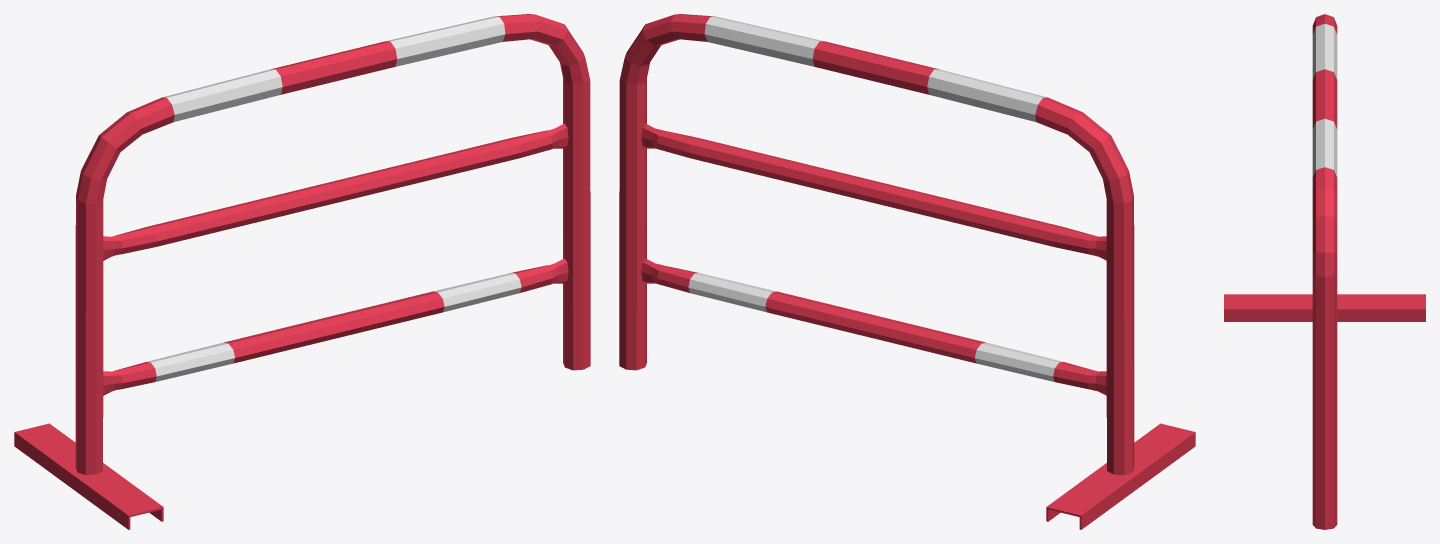
Rendered from barrierre.fbx.
3 views of the same model, side by side, from view 1: azimuth 30°, elevation 25°; view 2: azimuth 150°, elevation 25°; view 3: azimuth 270°, elevation 25° (orthographic). The views are drawn at different scales.
Parts seen in each view (by area): view 1: Barrière; view 2: Barrière; view 3: Barrière.
Boxes of the visible parts, left/top/right/bottom form: Barrière: left=14, top=14, right=590, bottom=529; Barrière: left=619, top=14, right=1195, bottom=529; Barrière: left=1224, top=14, right=1425, bottom=529.
Bounding box in the file's own units: 236 × 160 × 90.05.
